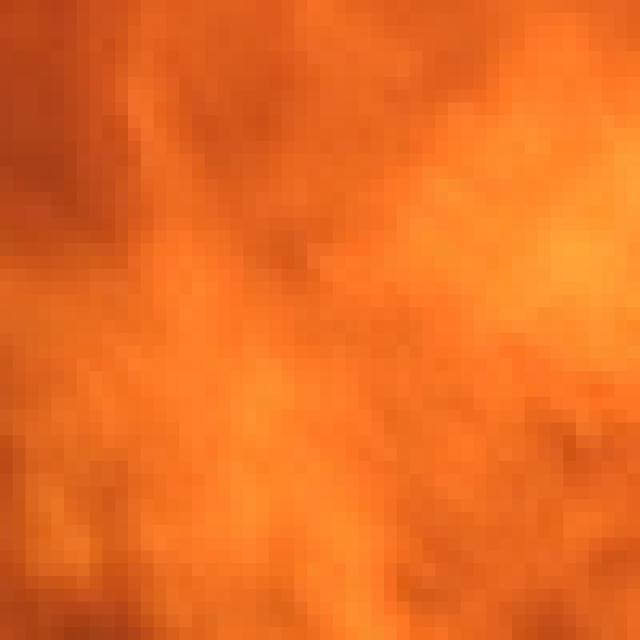fire: (13, 0, 627, 640)
